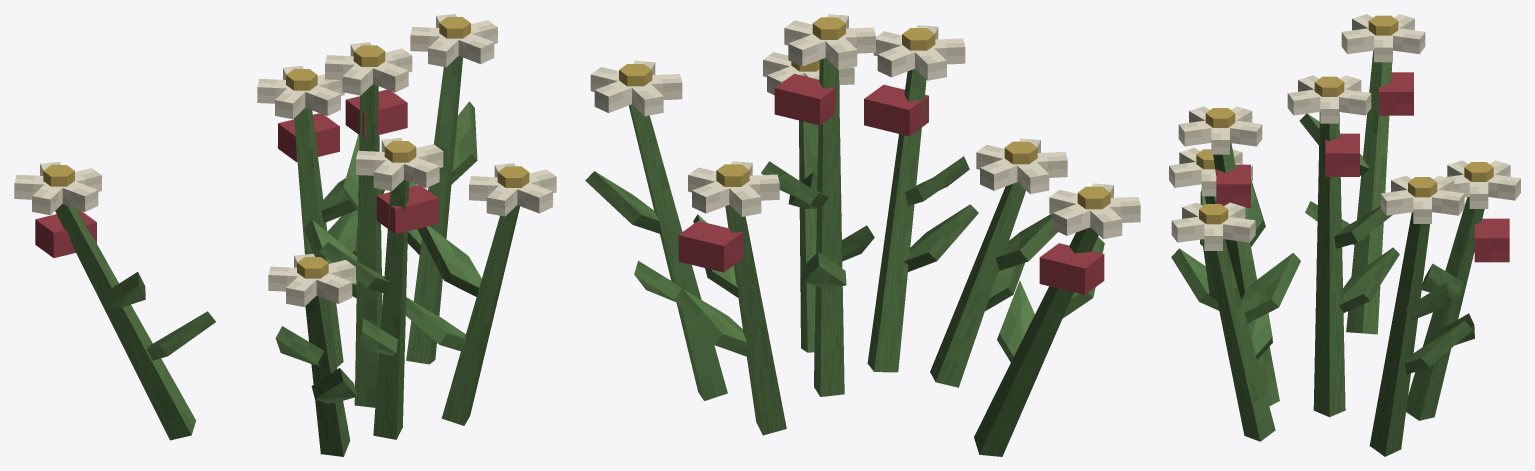
Rendered from f_maianthemum_stellatum.glb.
The picture shows the model from 3 angles, left to right: view 1: azimuth 30°, elevation 25°; view 2: azimuth 150°, elevation 25°; view 3: azimuth 270°, elevation 25°; orthographic projection. The views are drawn at different scales.
Visible parts, largest first — view 1: block_petal (×21), block_pointed-leaf (×13), block_crimson-berry-cluster (×4), block_stem-4, block_stem-0, block_stem-5, block_stem-6, block_stem-3, block_stem-2, block_stem-1, block_flower-centre-0, block_flower-centre-3 (+5 smaller); view 2: block_pointed-leaf (×12), block_petal (×18), block_crimson-berry-cluster (×4), block_stem-0, block_stem-6, block_stem-4, block_stem-5, block_stem-1, block_stem-2, block_stem-3, block_flower-centre-1, block_flower-centre-4 (+4 smaller); view 3: block_petal (×19), block_pointed-leaf (×11), block_stem-0, block_stem-5, block_crimson-berry-cluster (×4), block_stem-3, block_stem-4, block_stem-2, block_stem-6, block_flower-centre-0, block_flower-centre-4, block_flower-centre-3 (+3 smaller).
Boxes of the visible parts, box(x1,y1,x2,y2) form: block_petal (×21): box(14, 27, 552, 306); block_pointed-leaf (×13): box(105, 101, 481, 403); block_crimson-berry-cluster (×4): box(35, 89, 438, 257); block_stem-4: box(55, 204, 196, 440); block_stem-0: box(354, 84, 382, 407); block_stem-5: box(406, 56, 462, 364); block_stem-6: box(373, 180, 409, 439); block_stem-3: box(441, 205, 519, 425); block_stem-2: box(294, 108, 343, 367); block_stem-1: box(305, 295, 350, 456); block_flower-centre-0: box(353, 45, 385, 66); block_flower-centre-3: box(497, 166, 529, 187); block_pointed-leaf (×12): box(585, 156, 1057, 362); block_petal (×18): box(594, 27, 1140, 239); block_crimson-berry-cluster (×4): box(678, 73, 1104, 294); block_stem-0: box(814, 58, 844, 396); block_stem-6: box(867, 69, 926, 372); block_stem-4: box(974, 227, 1098, 456); block_stem-5: box(629, 104, 727, 400); block_stem-1: box(930, 182, 1025, 387); block_stem-2: box(725, 205, 786, 435); block_stem-3: box(799, 120, 818, 352); block_flower-centre-1: box(1004, 141, 1037, 164); block_flower-centre-4: box(1077, 186, 1110, 209); block_petal (×19): box(1169, 28, 1520, 250); block_pointed-leaf (×11): box(1171, 113, 1474, 374); block_stem-0: box(1313, 112, 1345, 417); block_stem-5: box(1369, 212, 1429, 456); block_crimson-berry-cluster (×4): box(1216, 72, 1509, 262); block_stem-3: box(1207, 239, 1275, 441); block_stem-4: box(1346, 50, 1392, 334); block_stem-2: box(1406, 197, 1484, 420); block_stem-6: box(1213, 143, 1279, 406); block_flower-centre-0: box(1314, 76, 1344, 96); block_flower-centre-4: box(1368, 15, 1398, 35); block_flower-centre-3: box(1199, 204, 1228, 224).
Bounding box in the file's own units: 0.4867 × 0.3386 × 0.3228.
Materials: 1 (1 with a texture image).
